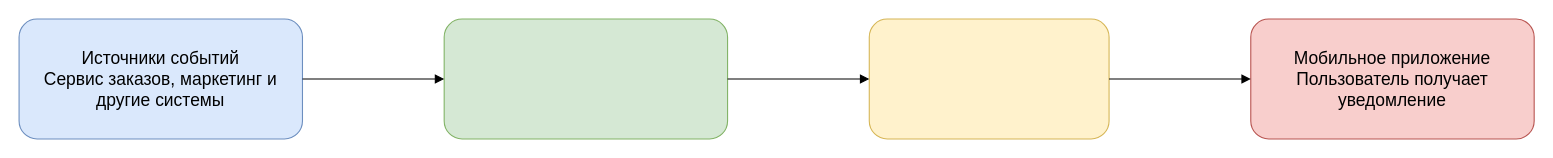
This 1553x158 diagram has some shape labels left out. The centre of each missing label's shape, as x and y in pixels:
Push-провайдеры: the point at 988,78
Сервис уведомлений Формирование и отправка Push: the point at 585,78
